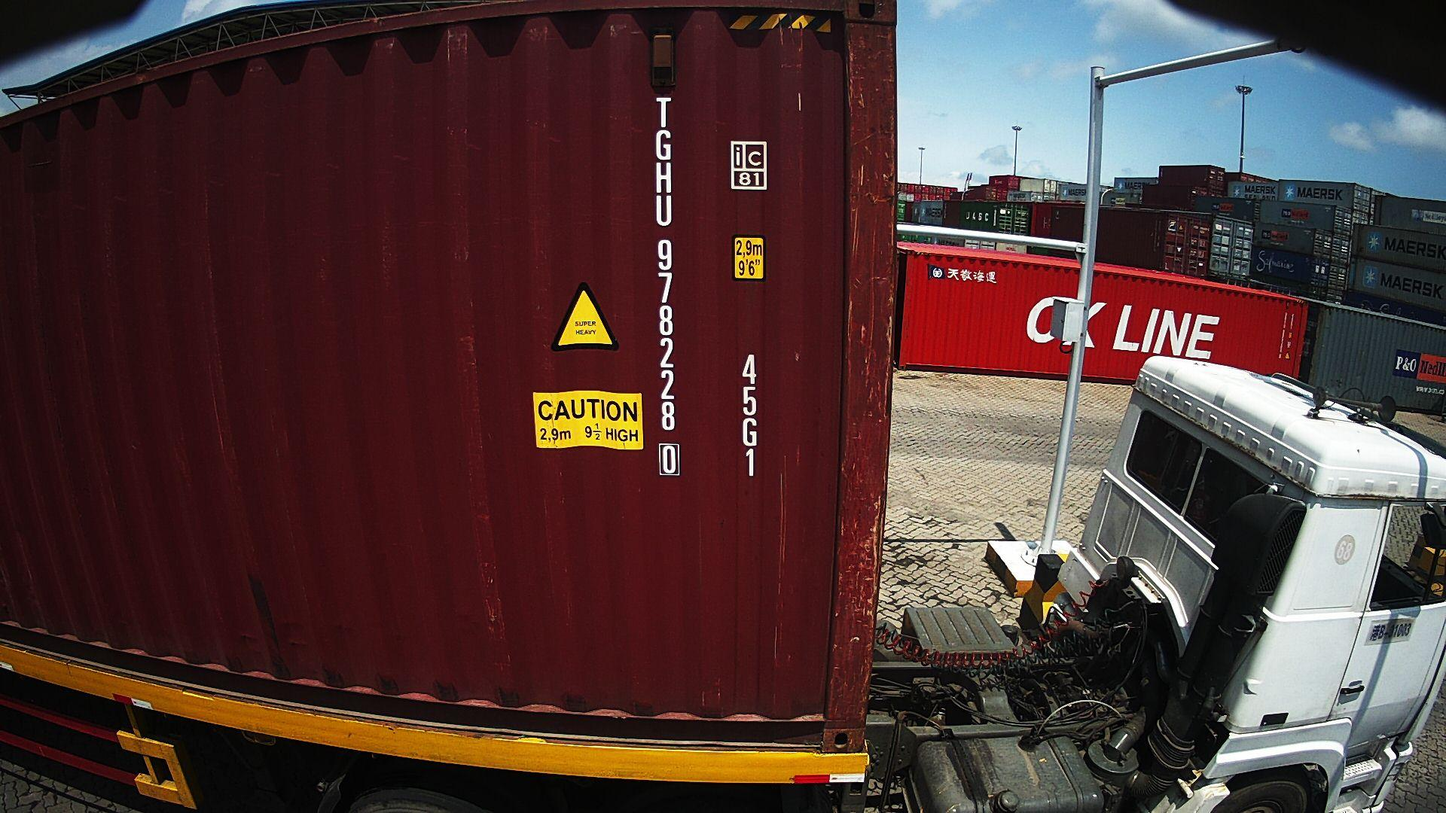container-numbers: (650, 93, 683, 486), (737, 349, 763, 481)
